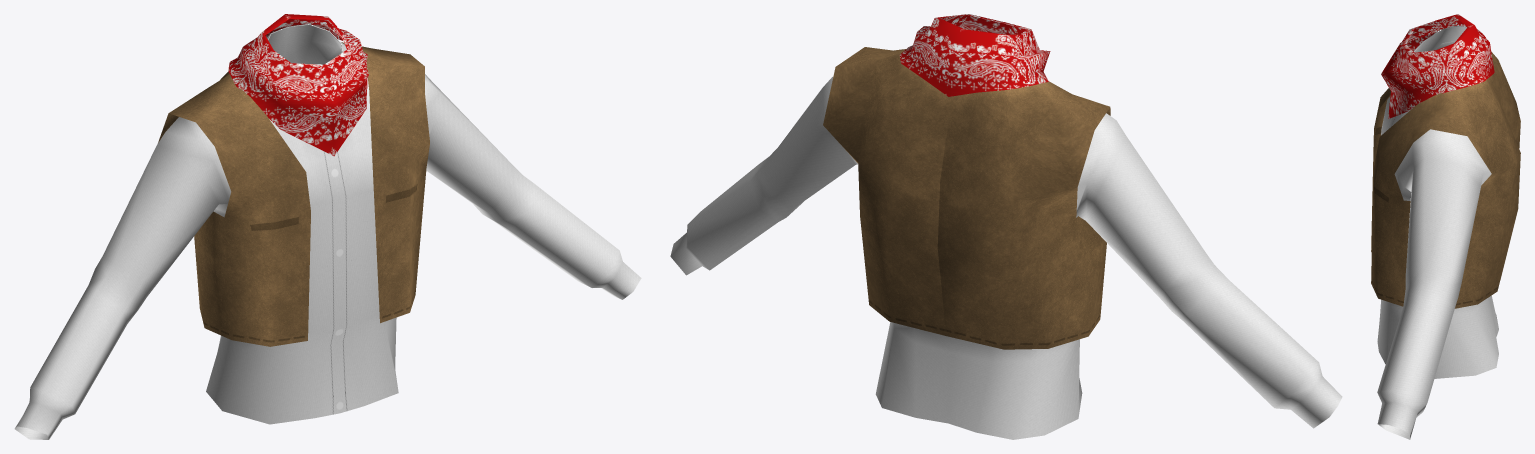
Rendered from MaleShirt1.fbx.
3 renders of one model, left to right at view 1: azimuth 30°, elevation 25°; view 2: azimuth 150°, elevation 25°; view 3: azimuth 270°, elevation 25°, orthographic. The views are drawn at different scales.
Visible parts, largest first — view 1: male1591Mesh.009; view 2: male1591Mesh.009; view 3: male1591Mesh.009.
Part boxes in pixels (x1=…): male1591Mesh.009: x1=14, y1=14, x2=641, y2=439; male1591Mesh.009: x1=670, y1=14, x2=1342, y2=439; male1591Mesh.009: x1=1371, y1=14, x2=1520, y2=439.
Bounding box in the file's own units: 10.63 × 5.88 × 2.52.
